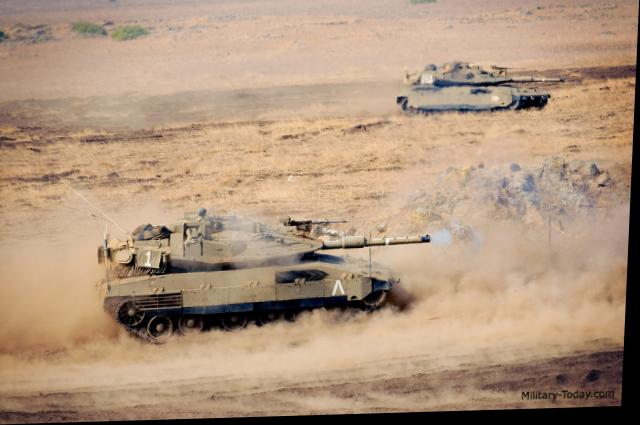tank: (89, 193, 442, 333), (381, 46, 572, 135)
